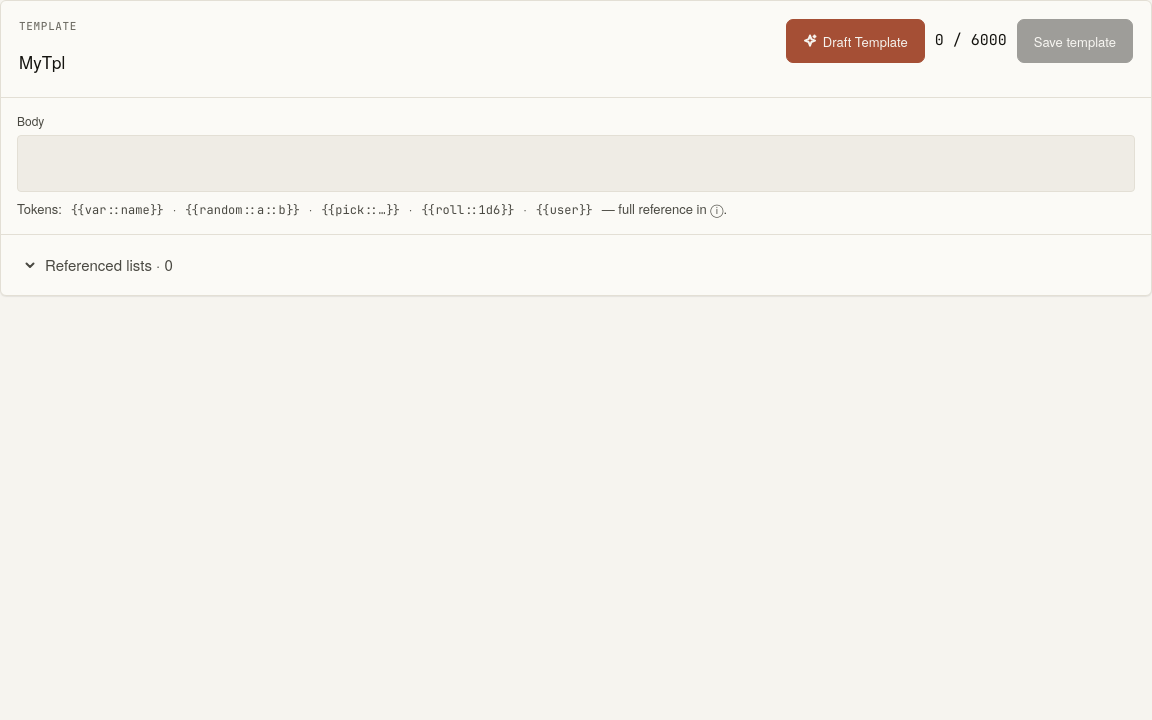
Test: TemplateEditor — AI Draft Template integration › seed-submit writes generated body on success
The width and height of the screenshot is (1152, 720).
Click the button "Draft Template" at (855, 41), box [786,19,925,63]
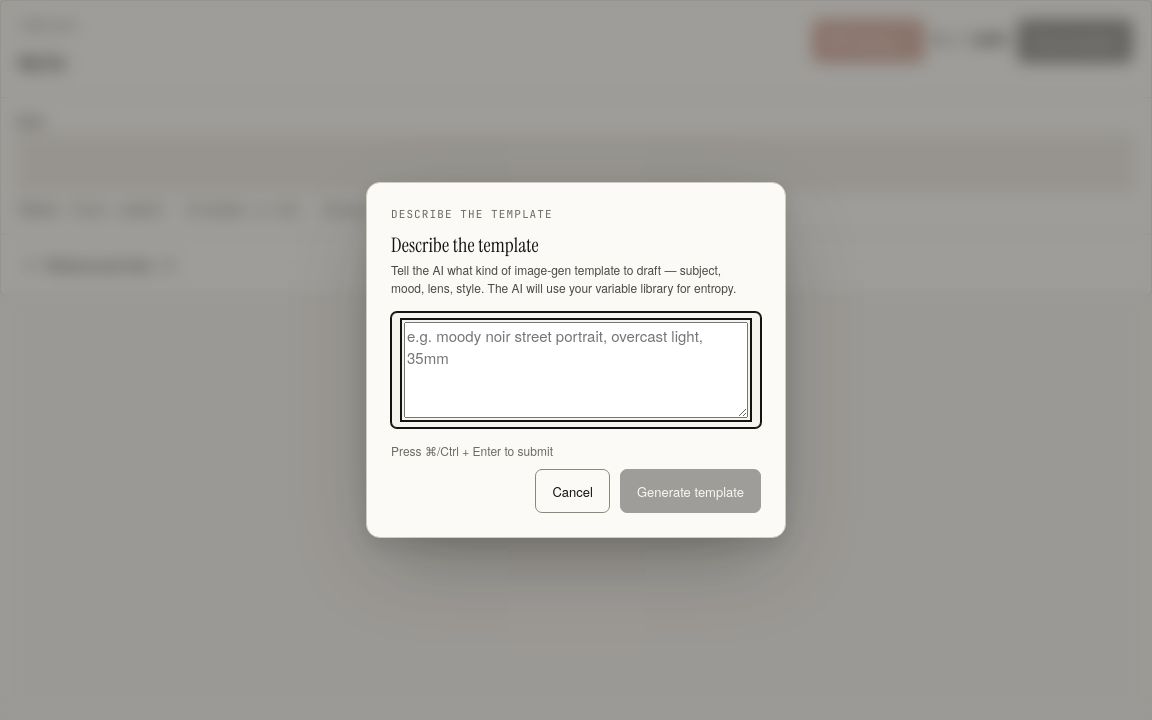
Type "noir" into the text box named "description" at (576, 370), box [404,322,748,418]
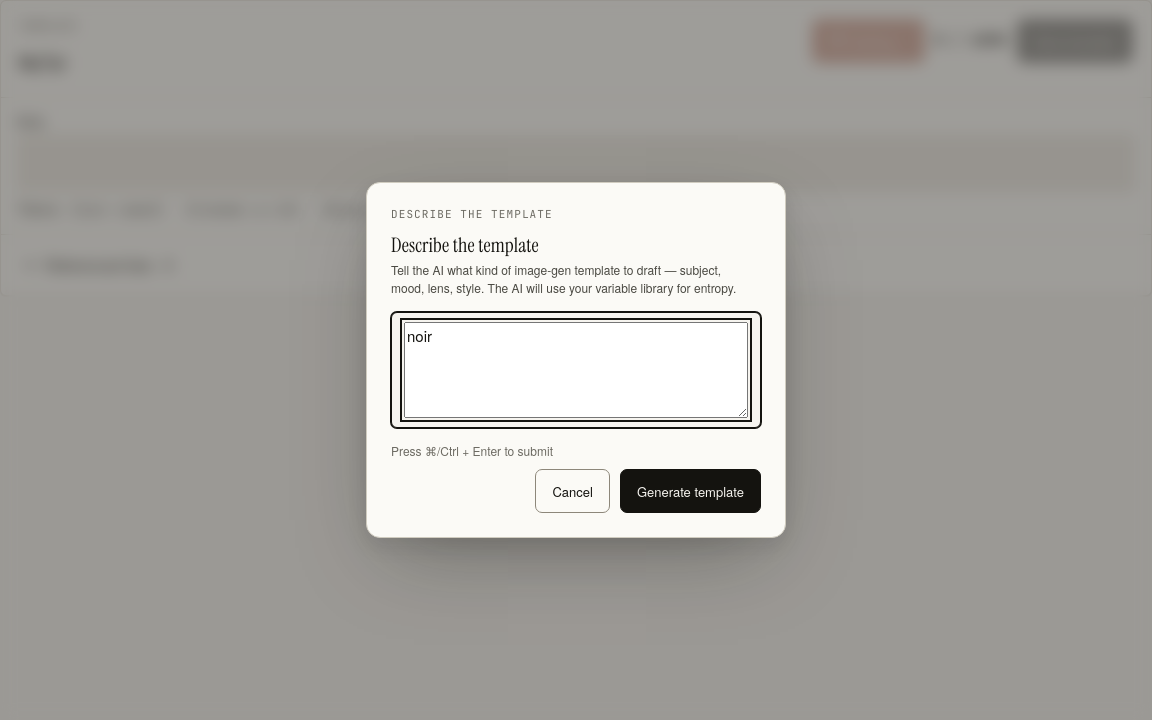
Click the button "Generate template" at (690, 491), box [620,469,761,513]
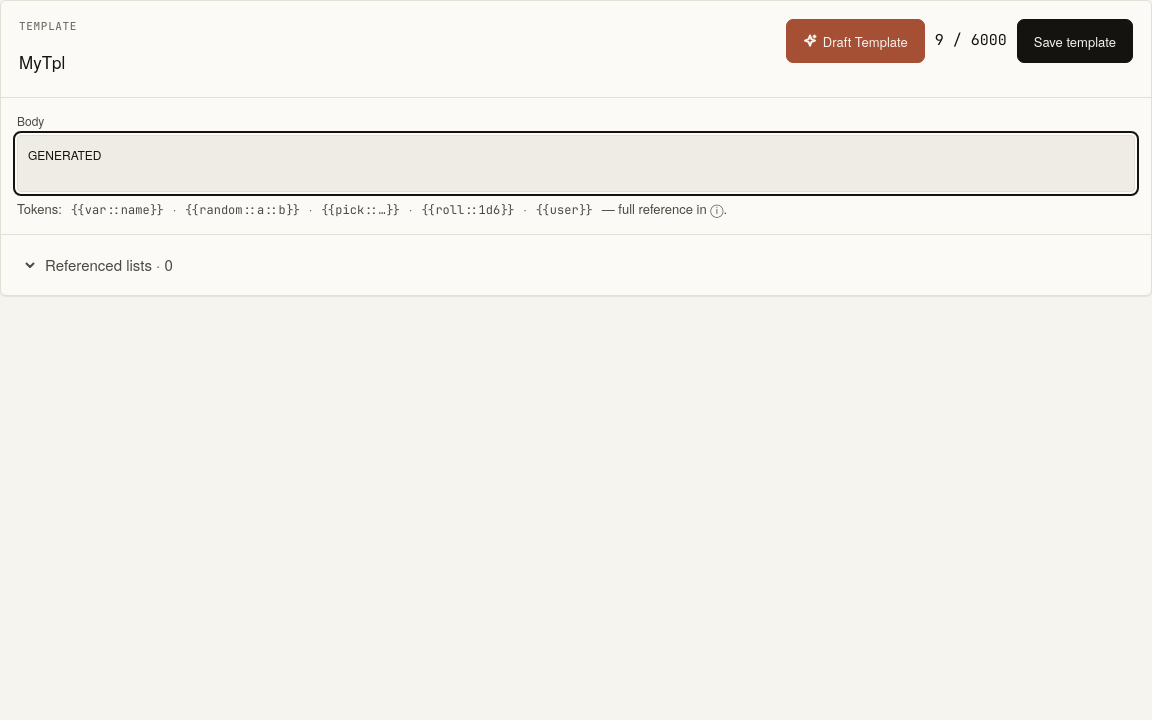
Now the text box labelled "Body" holds "GENERATED", box [17,135,1135,192]
